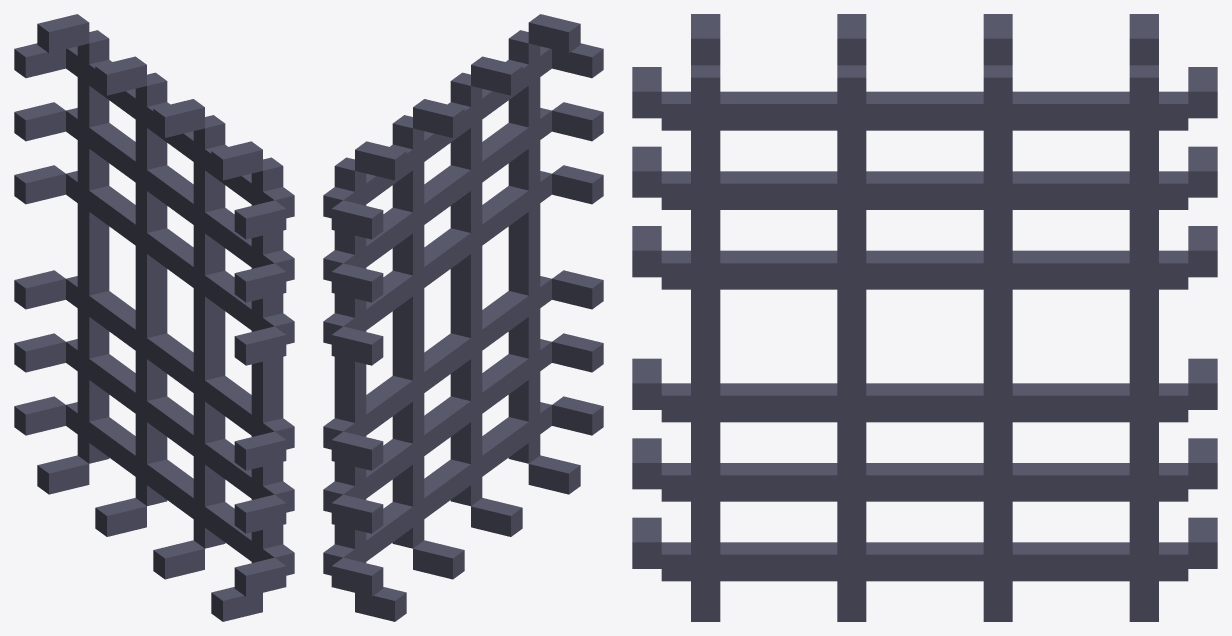
The model's file is krata_sciana.dae.
3 renders of one model, left to right at view 1: azimuth 30°, elevation 25°; view 2: azimuth 150°, elevation 25°; view 3: azimuth 270°, elevation 25°, orthographic. The views are drawn at different scales.
Parts seen in each view (by area): view 1: Content; view 2: Content; view 3: Content.
Part boxes in pixels (x1,y1,x2,y2): Content: (14,14,294,621); Content: (323,14,603,621); Content: (632,14,1217,621).
Size of the model in its own units: 3 by 22 by 20.
1 material, 1 textured.
